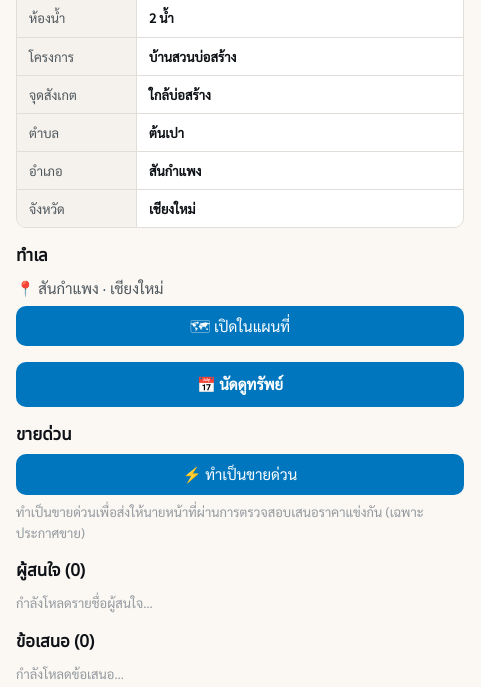
Test: Create a viewing from the detail screen › blocks a PAST time client-side (no POST) with a field error
This screenshot has width=481, height=687.
(page scrolled)
Click the button "📅 นัดดูทรัพย์": (240, 385) [16,362,464,407]
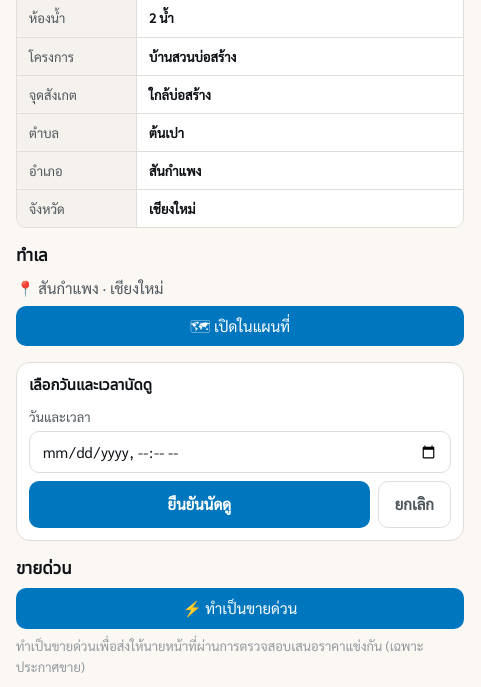
Result: the field labelled "วันและเวลา" is shown
In the field labelled "วันและเวลา": (240, 452) [29,431,451,473], type "2000-01-01T10:00"
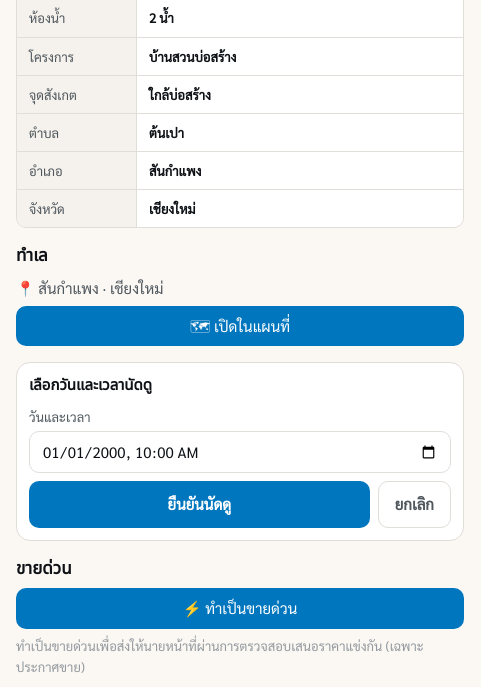
Click the button "ยืนยันนัดดู": (199, 505) [29,481,370,528]
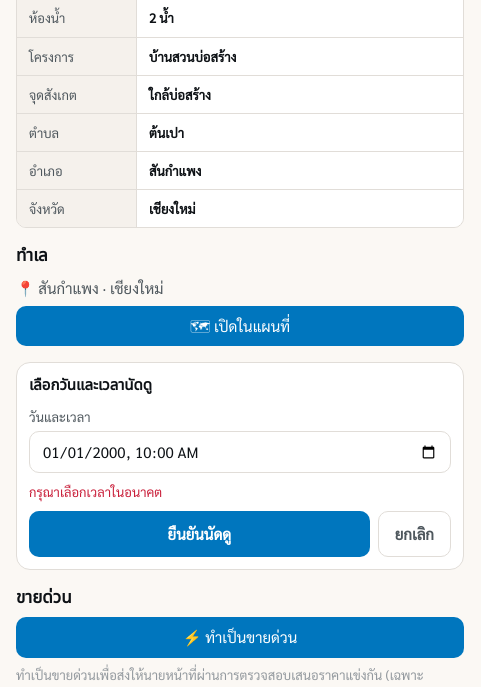
Result: the message "กรุณาเลือกเวลาในอนาคต" is shown at [29,483,162,500]
